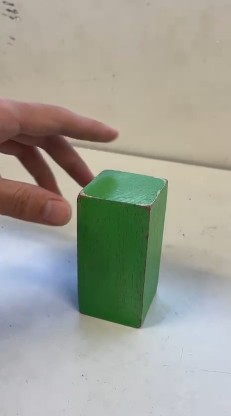green: (56, 175, 149, 308)
